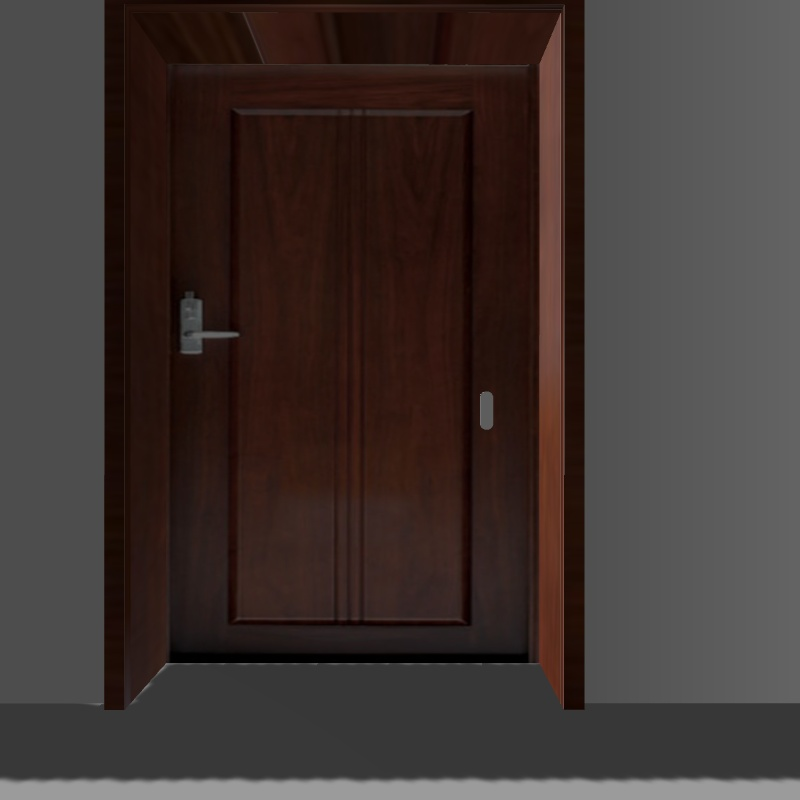handle: (172, 288, 240, 362)
